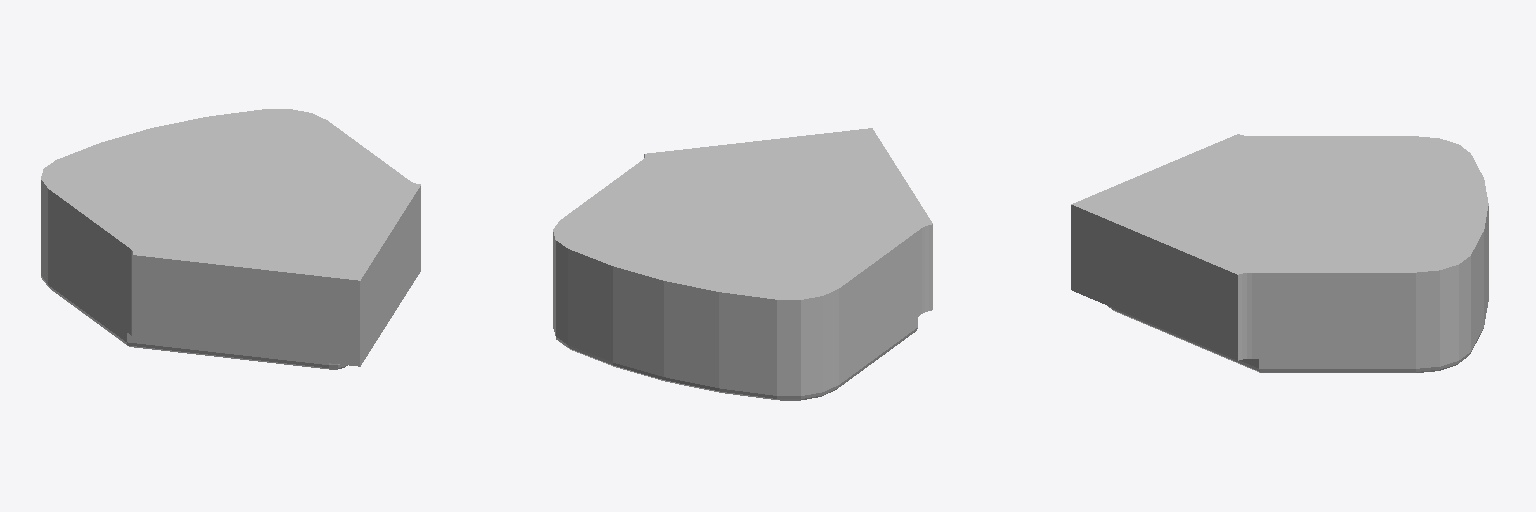
Rendered from DPadDown.obj.
3 renders of one model, left to right at view 1: azimuth 30°, elevation 25°; view 2: azimuth 150°, elevation 25°; view 3: azimuth 270°, elevation 25°, orthographic.
Visible parts, largest first — view 1: DPadDown; view 2: DPadDown; view 3: DPadDown.
Boxes of the visible parts, x1=… form: DPadDown: x1=41, y1=109, x2=420, y2=369; DPadDown: x1=553, y1=128, x2=932, y2=400; DPadDown: x1=1071, y1=134, x2=1488, y2=372.
Bounding box in the file's own units: 8.79 × 3 × 11.